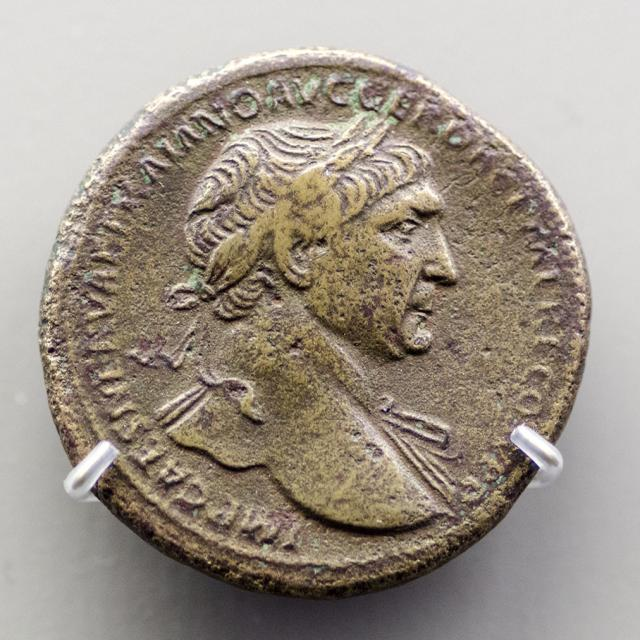Coin: (43, 49, 591, 595)
